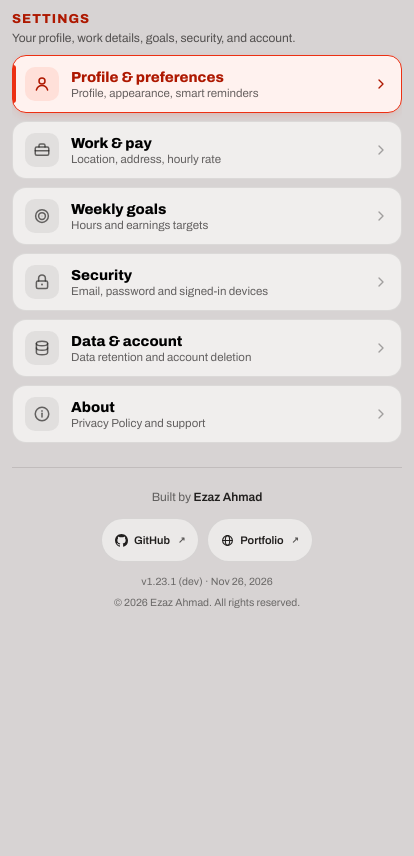
Test case: Settings hub — numeric validation › rejects non-numeric rate input without silently coercing it to zero
Click the button "Work & pay Location, address, hourly rate": click(42, 150) x1=12 y1=121 x2=402 y2=179
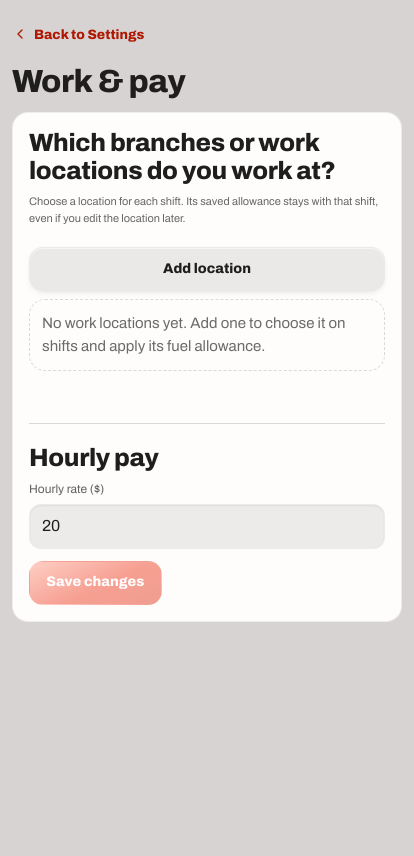
Replace the text in the field labelled "Hourly rate ($)" with "abc": (207, 526) x1=29 y1=504 x2=385 y2=549
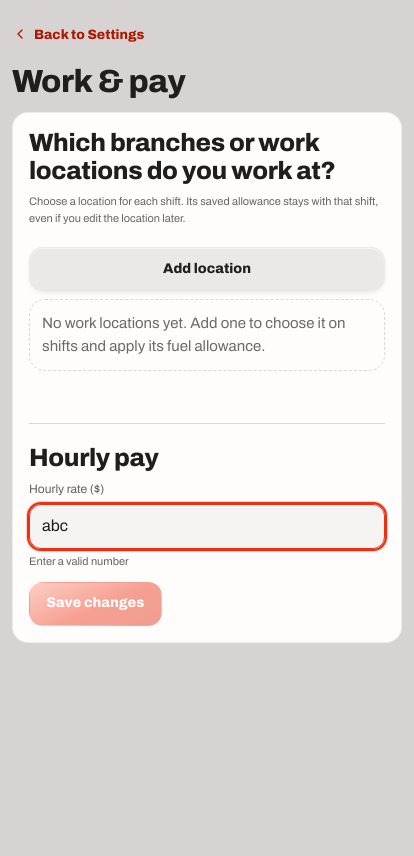
Now the text "Enter a valid number" is shown, box x1=29 y1=555 x2=129 y2=567
Now the button "Save changes" is disabled, box x1=29 y1=582 x2=162 y2=626
